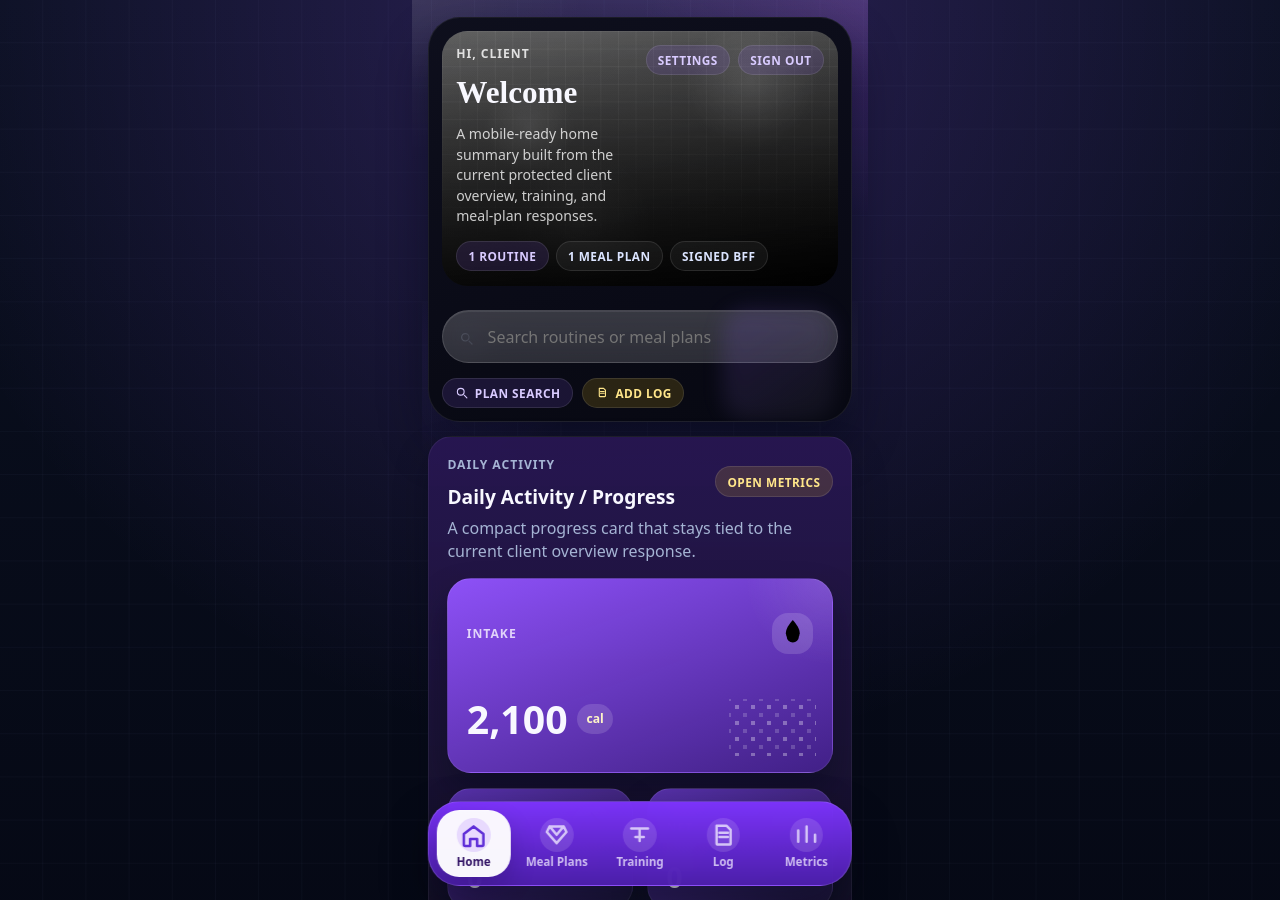
ClientDashboardPage mobile home › filters routines and meal plans locally from the top-hub search field
Type "lean" into the search field named "Search client home". click: (640, 337)
box: x1=442 y1=310 x2=838 y2=363
(page scrolled)
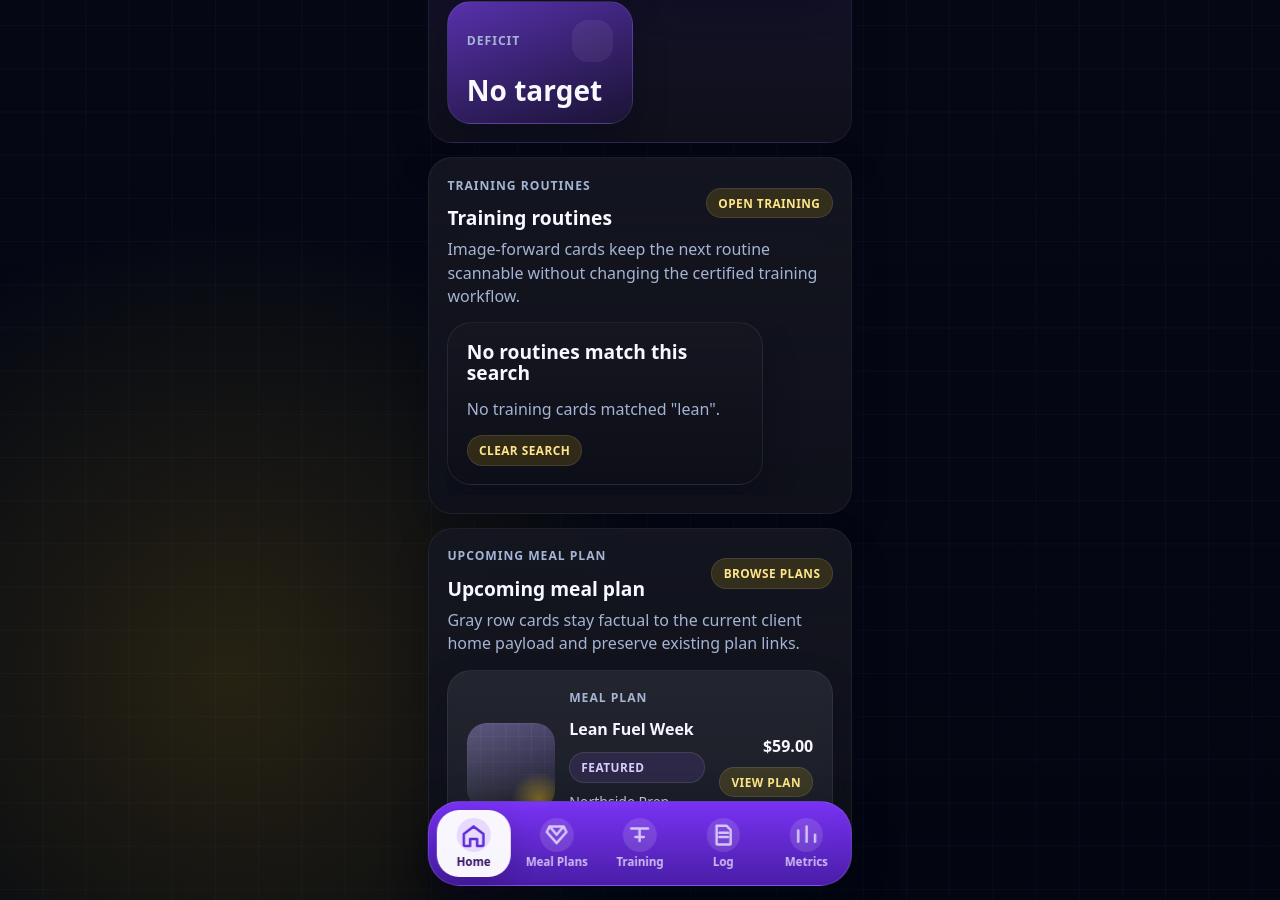
Check: the heading "Lean Fuel Week" is shown, box x1=569 y1=721 x2=705 y2=738
Check: the button "Clear search" is shown, box x1=467 y1=435 x2=582 y2=466
